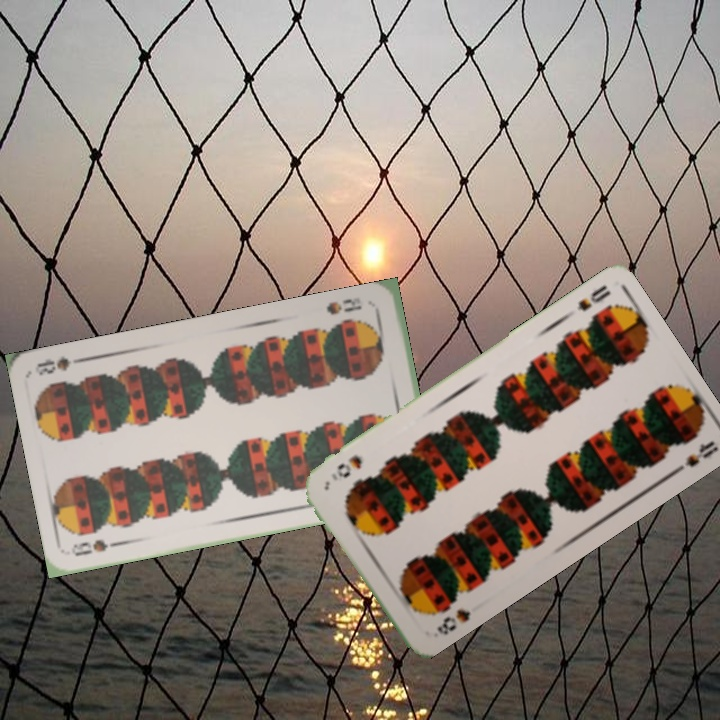S8: (68, 535, 127, 559), (573, 280, 613, 314), (433, 605, 473, 638), (322, 293, 364, 318)
